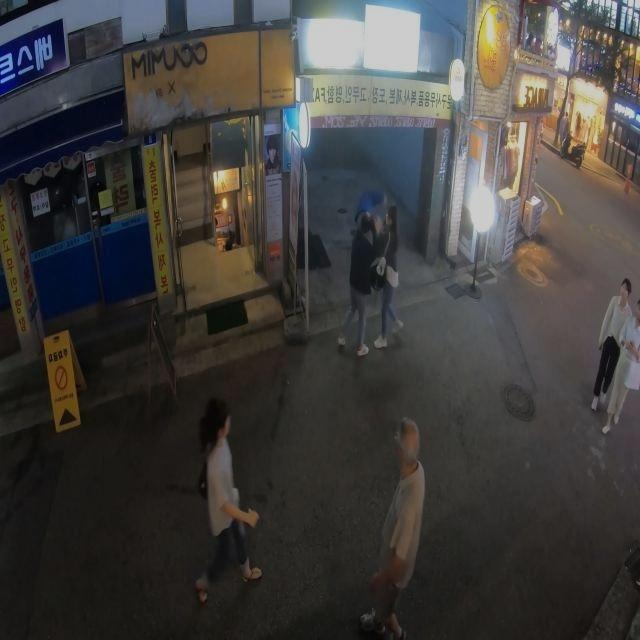fight: (338, 203, 406, 356)
non-fight: (357, 414, 431, 639), (190, 403, 266, 598), (589, 275, 635, 414)
